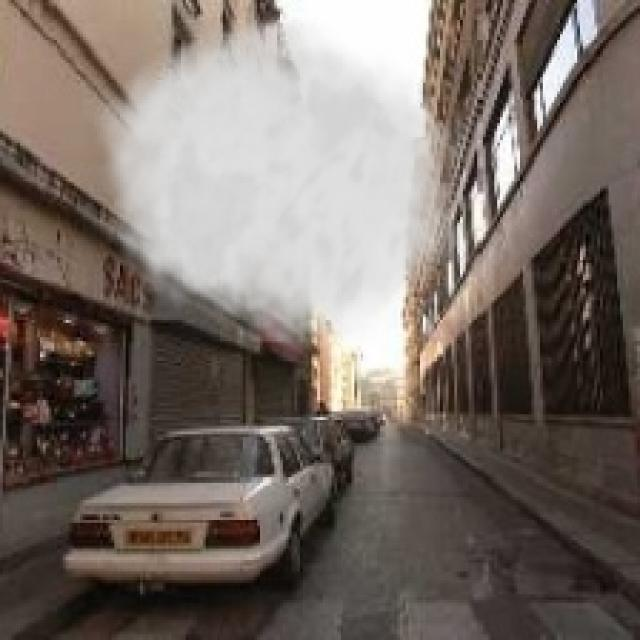smoke: (83, 6, 468, 363)
